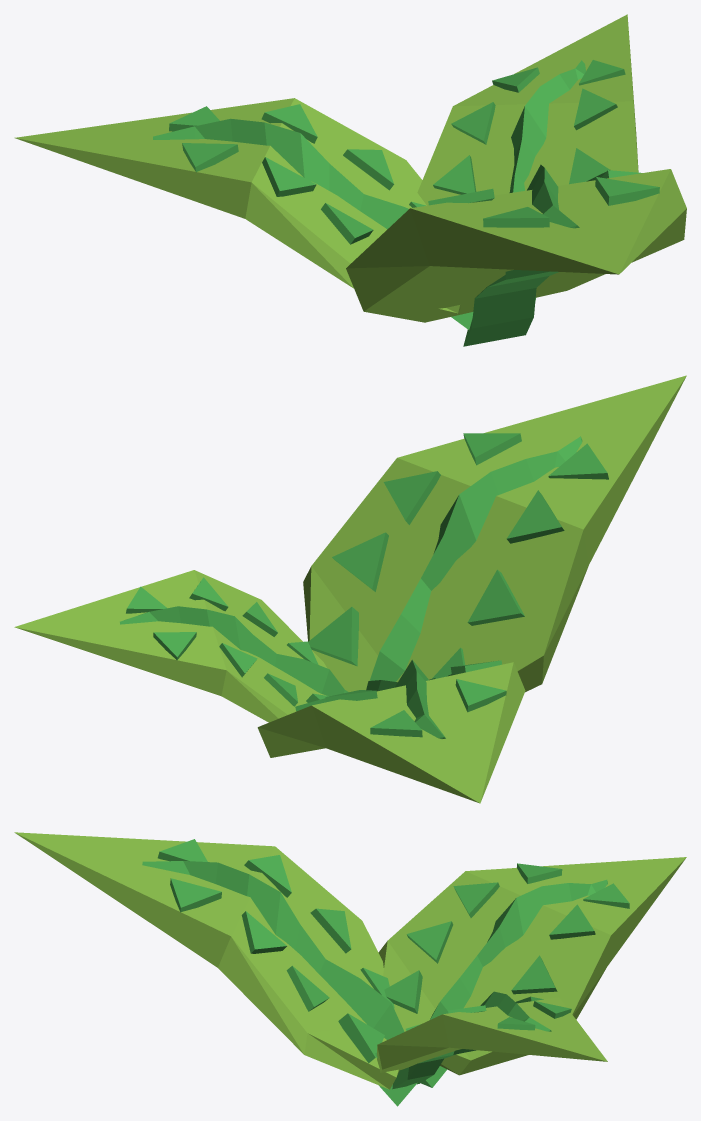
The picture shows the model from 3 angles, top to bottom: view 1: azimuth 30°, elevation 25°; view 2: azimuth 150°, elevation 25°; view 3: azimuth 270°, elevation 25°; orthographic projection. The views are drawn at different scales.
Visible parts, largest first — view 1: group_1128778596, group_332582935, group_1442349342, group_1579596776, group_174937726, group_937574290, group_1559561055; view 2: group_332582935, group_1442349342, group_1128778596, group_1579596776, group_2072366811, group_2113359440, group_1090238204, group_678313236, group_1559561055, group_937574290, group_174937726; view 3: group_1128778596, group_332582935, group_1442349342, group_1579596776, group_2072366811, group_174937726, group_678313236, group_1090238204, group_1559561055, group_2113359440, group_937574290, group_1571594266.
Boxes of the visible parts, bbox=[...] form: group_1128778596: bbox=[14, 98, 473, 329]; group_332582935: bbox=[346, 169, 686, 322]; group_1442349342: bbox=[417, 14, 638, 300]; group_1579596776: bbox=[463, 164, 579, 346]; group_174937726: bbox=[595, 177, 659, 205]; group_937574290: bbox=[483, 207, 549, 227]; group_1559561055: bbox=[428, 188, 494, 205]; group_332582935: bbox=[303, 375, 686, 692]; group_1442349342: bbox=[14, 570, 348, 722]; group_1128778596: bbox=[257, 659, 525, 803]; group_1579596776: bbox=[369, 436, 582, 681]; group_2072366811: bbox=[308, 607, 358, 666]; group_2113359440: bbox=[332, 532, 388, 591]; group_1090238204: bbox=[467, 569, 524, 625]; group_678313236: bbox=[383, 471, 440, 524]; group_1559561055: bbox=[506, 490, 564, 543]; group_937574290: bbox=[548, 443, 608, 479]; group_174937726: bbox=[463, 433, 521, 465]; group_1128778596: bbox=[378, 857, 686, 1087]; group_332582935: bbox=[14, 832, 399, 1089]; group_1442349342: bbox=[375, 991, 607, 1089]; group_1579596776: bbox=[142, 861, 417, 1106]; group_2072366811: bbox=[338, 1013, 384, 1063]; group_174937726: bbox=[170, 878, 221, 912]; group_678313236: bbox=[241, 911, 286, 953]; group_1090238204: bbox=[310, 908, 351, 953]; group_1559561055: bbox=[244, 855, 291, 897]; group_2113359440: bbox=[286, 965, 329, 1011]; group_937574290: bbox=[157, 839, 207, 861]; group_1571594266: bbox=[360, 968, 394, 1008].
Bounding box in the file's own units: 33.34 × 15.25 × 42.64.
